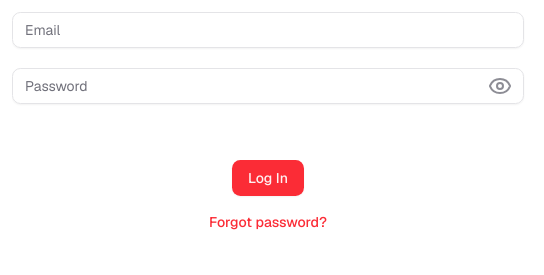
Test case: LoginForm (unit) › shows 'Invalid email format' for incorrect email
Type "not-an-email" into the field with placeholder "Email". click: (268, 30)
box: [12,12,524,48]
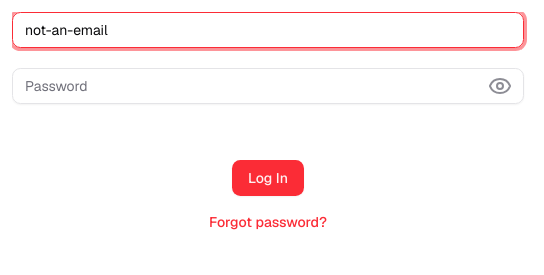
Type "abc123" into the password field with placeholder "Password". click: (268, 86)
box: [12,68,524,104]
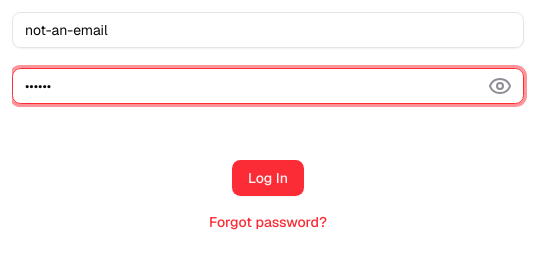
Click the button "Log In". click: (268, 178)
box: [232,160,304,196]
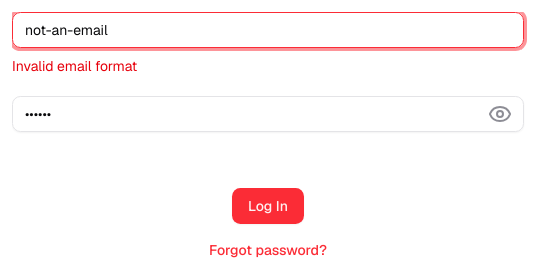
Now the text "Invalid email format" is shown, box [12,57,137,75]
